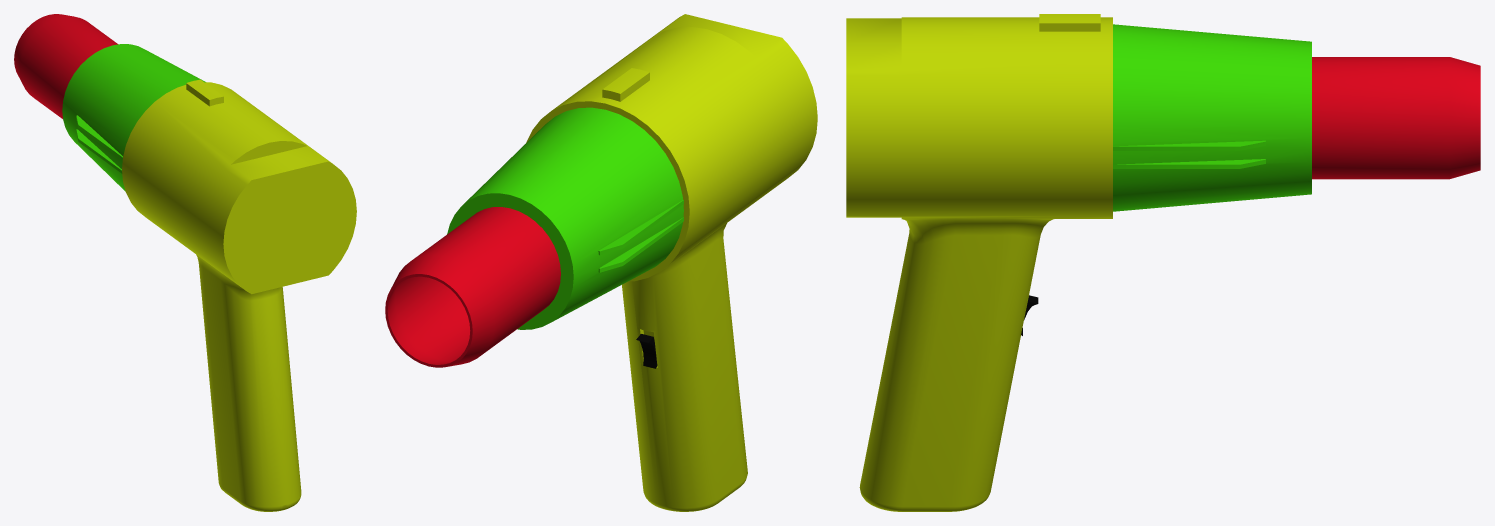
File: Heat Gun_LP.fbx
The picture shows the model from 3 angles, left to right: view 1: azimuth 30°, elevation 25°; view 2: azimuth 150°, elevation 25°; view 3: azimuth 270°, elevation 25°; orthographic projection. The views are drawn at different scales.
Parts seen in each view (by area): view 1: Heat Gun_LP; view 2: Heat Gun_LP; view 3: Heat Gun_LP.
Boxes of the visible parts, x1,y1,x2,y2 form: Heat Gun_LP: (14,14,356,511); Heat Gun_LP: (385,14,817,511); Heat Gun_LP: (846,14,1480,511).
Size of the model in its own units: 6.61 by 17.24 by 20.7.
